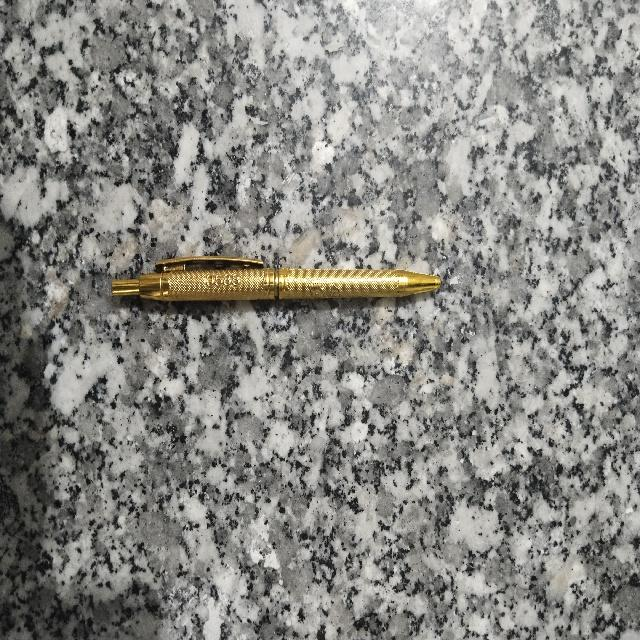signature pen: (112, 256, 440, 301)
